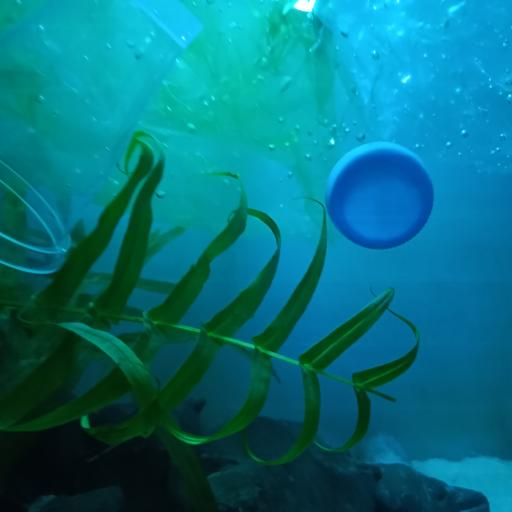bottle_cap: (326, 143, 435, 251)
plastic_bag: (0, 0, 350, 240), (315, 0, 512, 178)
plastic_cup: (0, 1, 206, 272)
